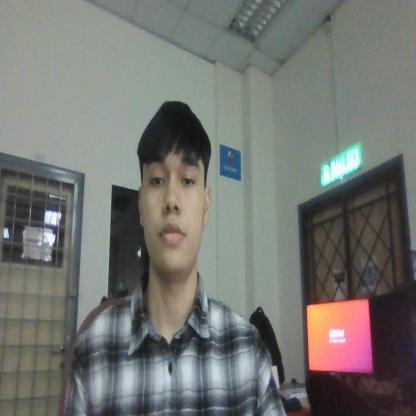Open-Eyes: (140, 146, 204, 198)
